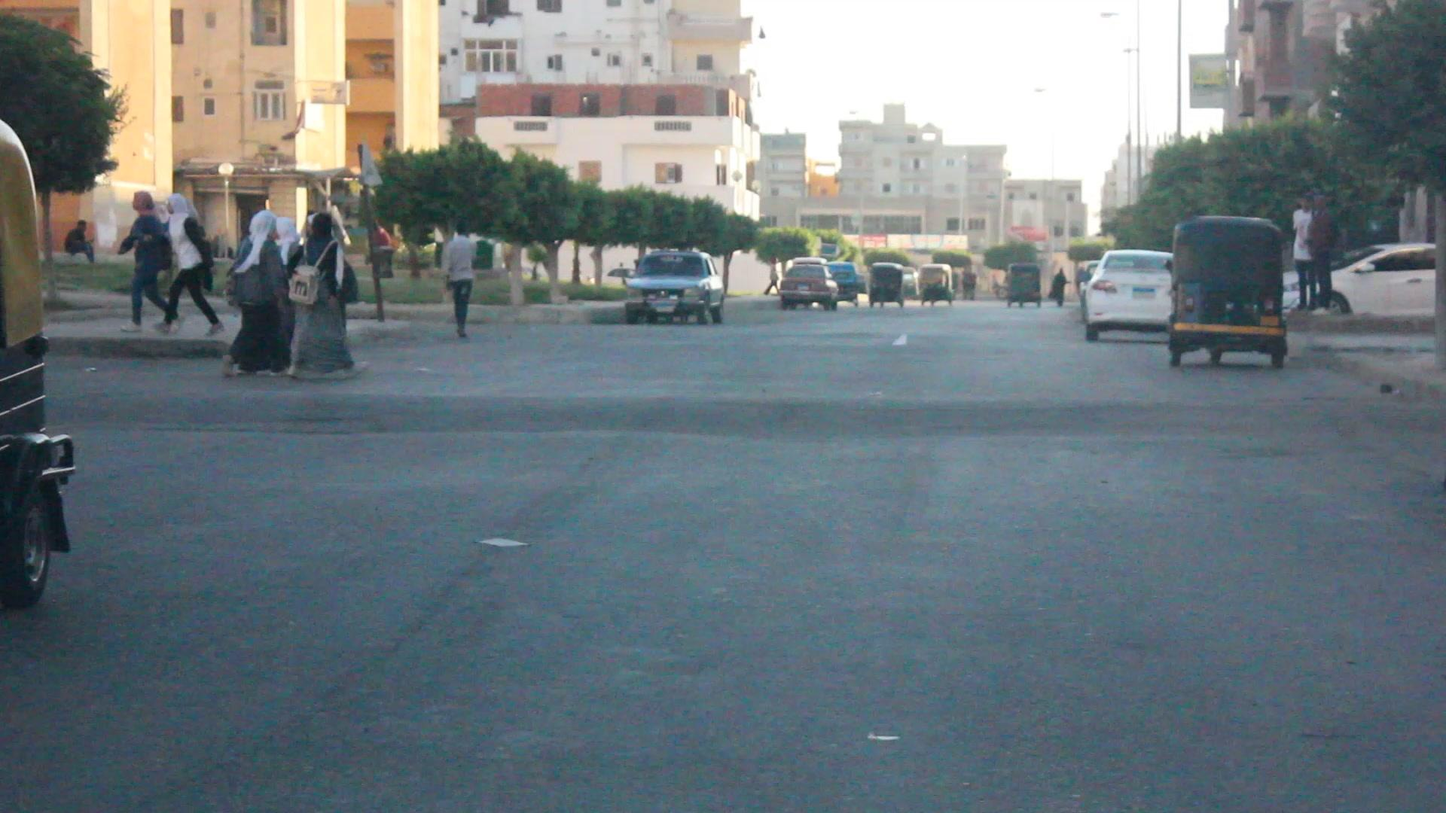Bump: (73, 378, 1433, 454)
